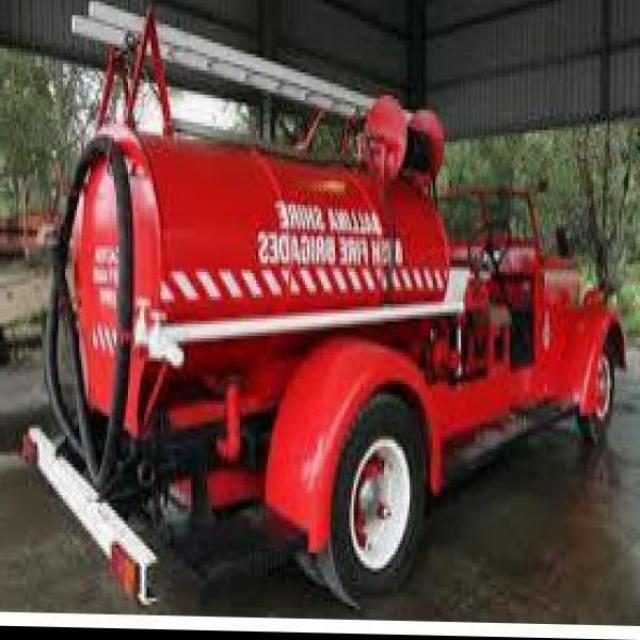emergency: (23, 1, 627, 607)
